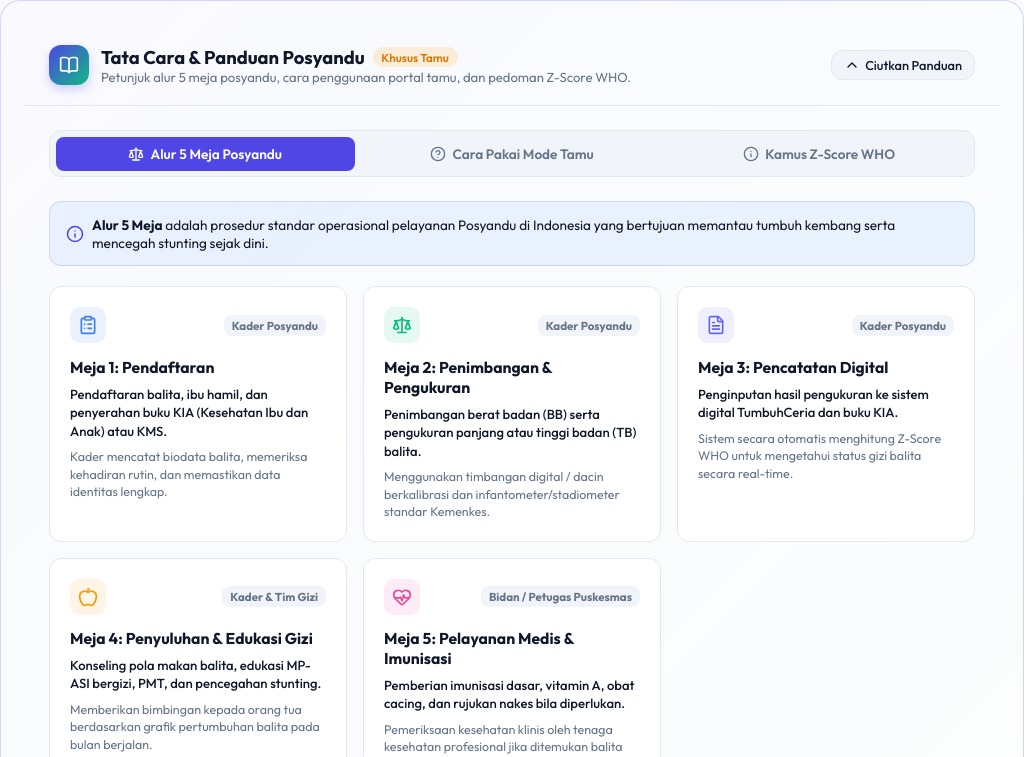
Scenario: PanduanTataCaraTamu Component › should switch tabs to Cara Pakai Mode Tamu
The width and height of the screenshot is (1024, 757).
Step 1. Click the button "Cara Pakai Mode Tamu" → click(512, 154), box x1=362 y1=137 x2=661 y2=171
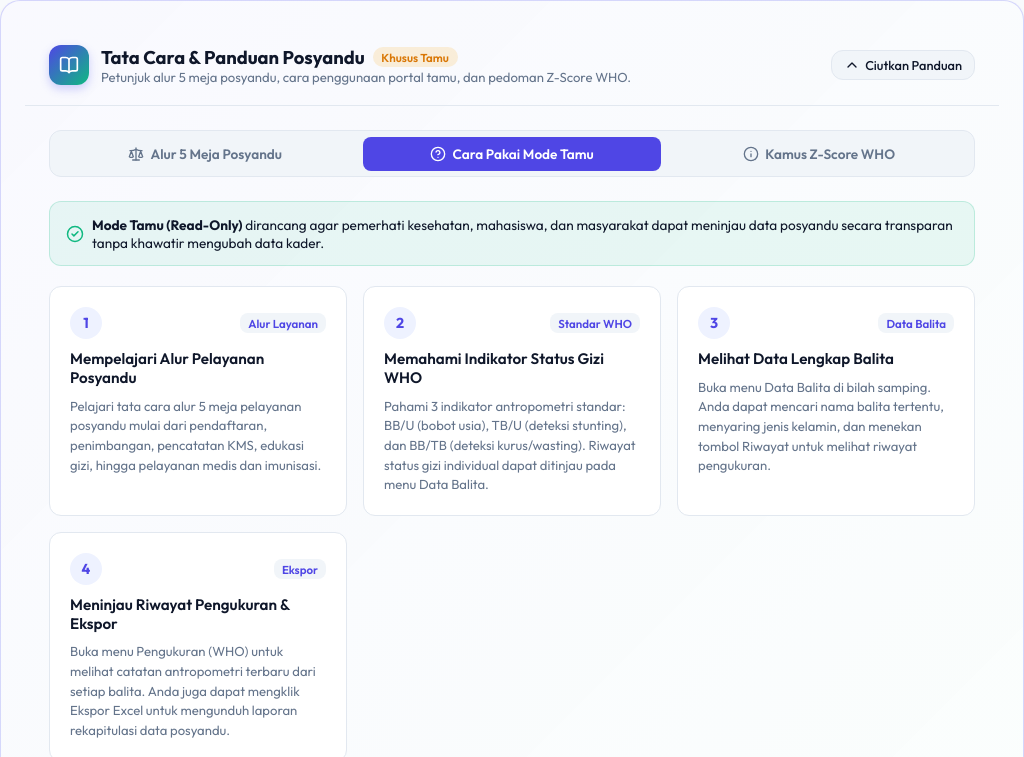
Result: the heading "Mempelajari Alur Pelayanan Posyandu" is shown at x1=70 y1=349 x2=264 y2=387
Result: the heading "Memahami Indikator Status Gizi WHO" is shown at x1=384 y1=349 x2=640 y2=387
